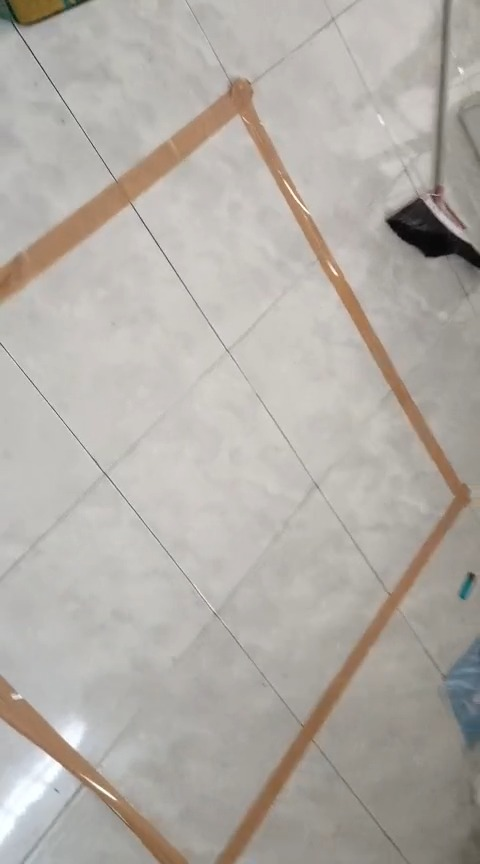floor marking: (0, 80, 470, 863), (1, 676, 188, 863)
